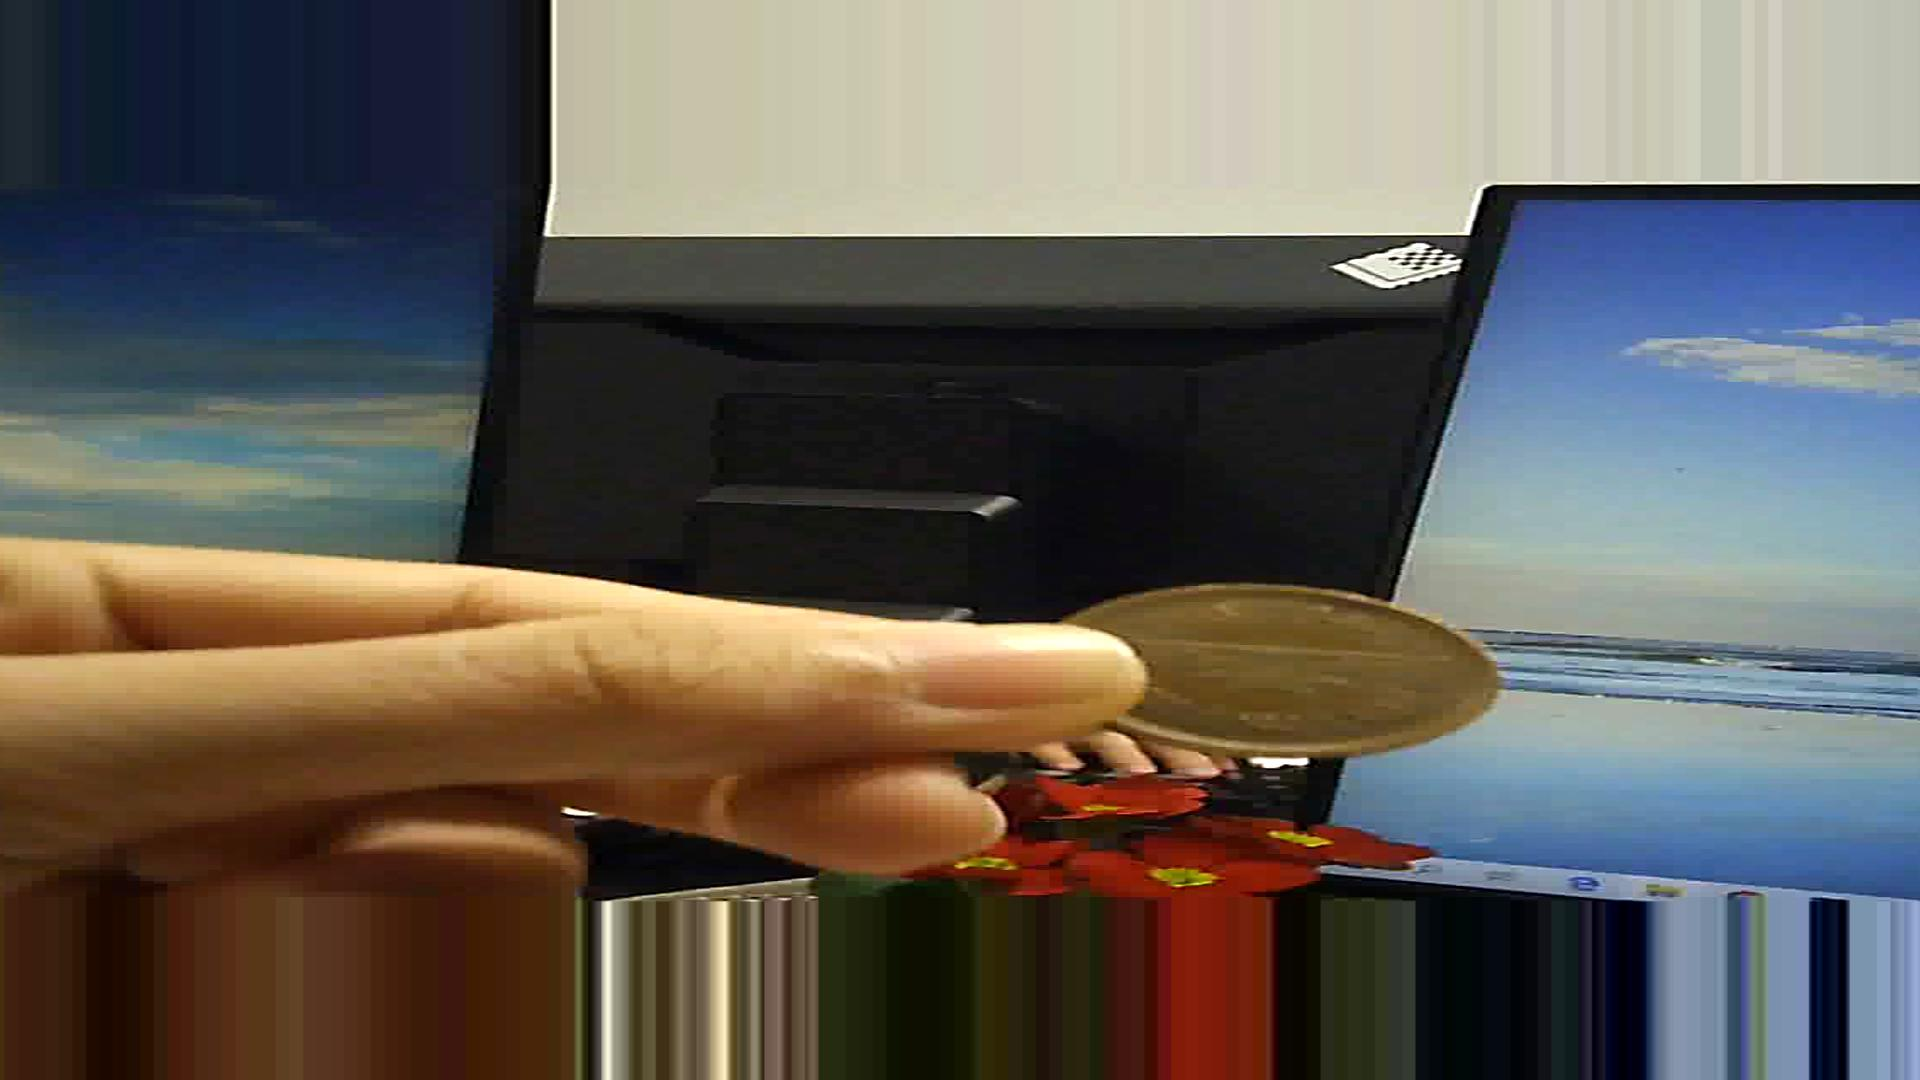10 Yen: (1055, 579, 1516, 775)
